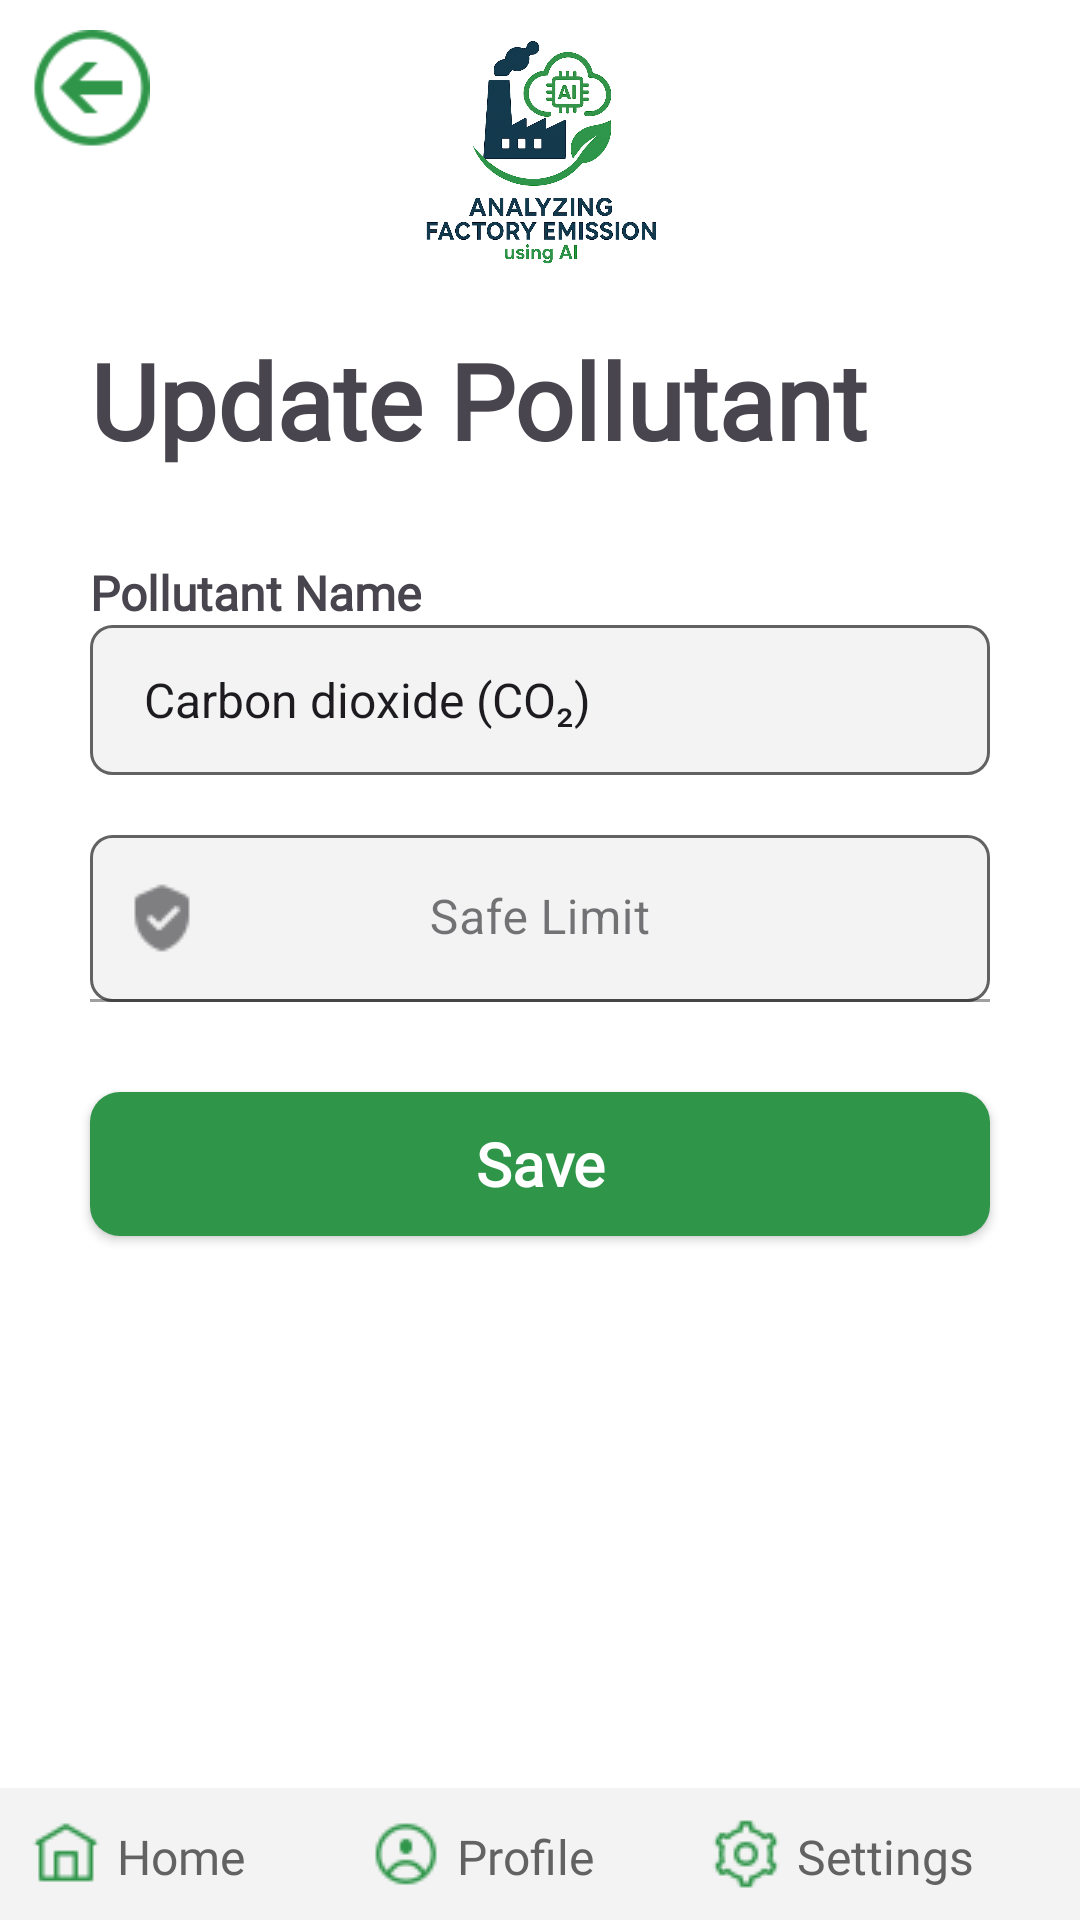

Icon click points for this 1080px x 1920px phone screenshot, format (x,y):
back: (92,88)
